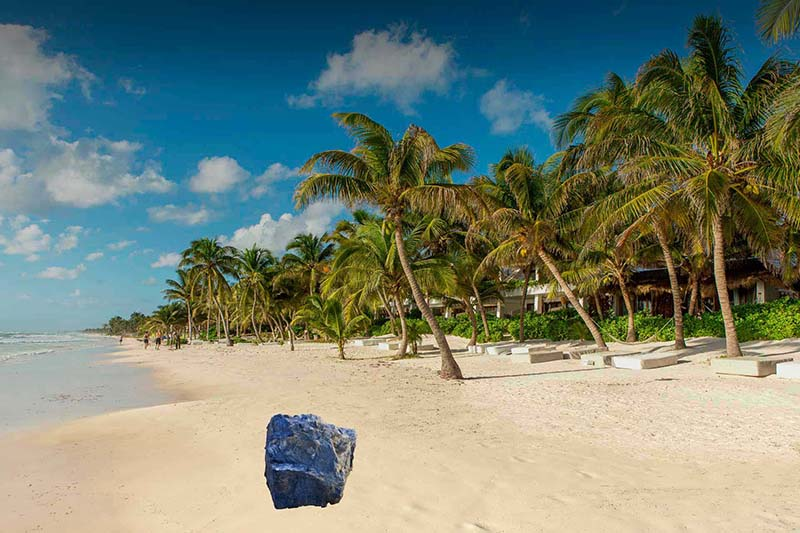Rocks: (254, 409, 360, 510)
